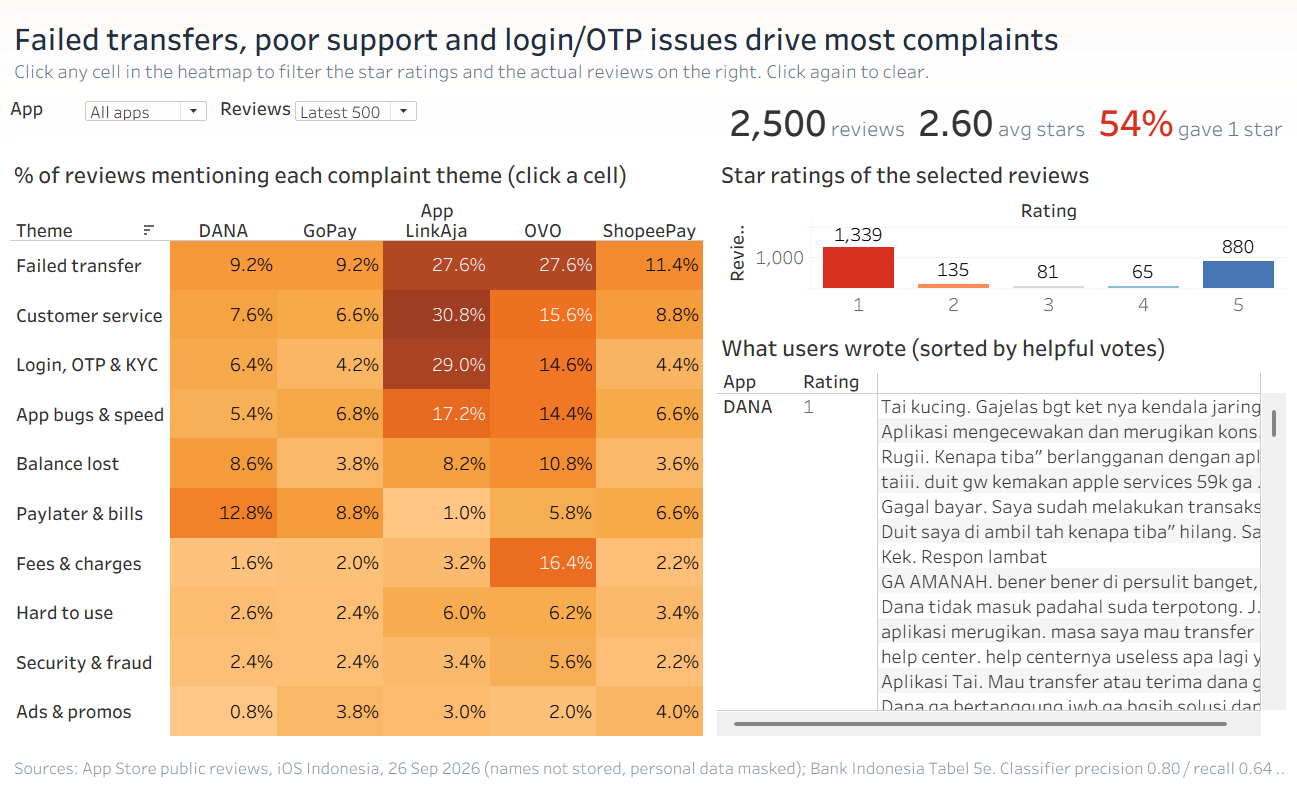

The page's visual inventory and layout, read from the dashboard file:
{"tool":"tableau","page":{"name":"2 Complaint Map","canvas":[1300,800],"ordinal":1},"visuals":[{"type":"text","box":[8,4.8,1284,84.8]},{"type":"parameter","param":"[Parameters].[Parameter 1]","box":[8,91.2,208,56]},{"type":"parameter","param":"[Parameters].[Parameter 2]","box":[218.4,91.2,208,56]},{"type":"worksheet","title":"Review KPIs","mark":"Text","box":[429,91.2,863,56]},{"type":"worksheet","title":"Complaint heatmap","mark":"Square","rows":["Theme"],"cols":["App"],"box":[8,148.8,702,595.2]},{"type":"worksheet","title":"Star ratings of selection","mark":"Bar","rows":["Calc_Reviews"],"cols":["Rating"],"box":[715,148.8,577,171.2]},{"type":"worksheet","title":"What users wrote","mark":"Text","rows":["App","Rating","Review ID"],"box":[715,324,577,420]},{"type":"text","box":[8,748,1284,48]}]}

Visuals, with their boxes in screenshot pixels (x1, y1, x2, y2), scaled from the page's 1300x800 canvas onto the 1297x796 screenshot:
text: 8/5/1289/89
parameter: 8/91/216/146
parameter: 218/91/425/146
"Review KPIs" worksheet (Text marks): 428/91/1289/146
"Complaint heatmap" worksheet (Square marks): 8/148/708/740
"Star ratings of selection" worksheet (Bar marks): 713/148/1289/318
"What users wrote" worksheet (Text marks): 713/322/1289/740
text: 8/744/1289/792
